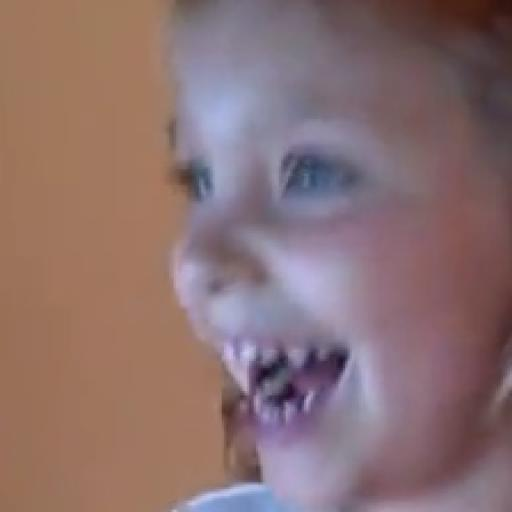Autism: (110, 0, 512, 512)
